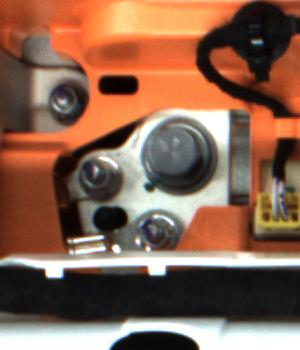nut_b: (142, 116, 220, 194)
screw_s: (73, 153, 128, 193), (41, 80, 84, 122), (138, 210, 178, 251)
